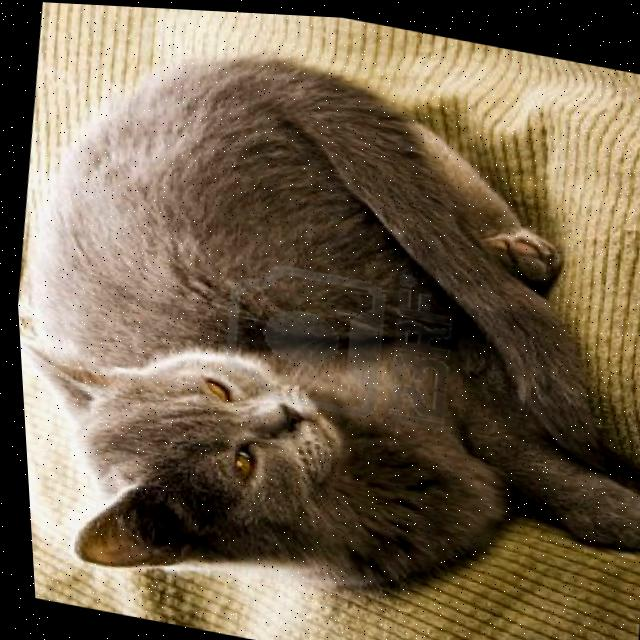British Shorthair: (0, 7, 640, 640)
